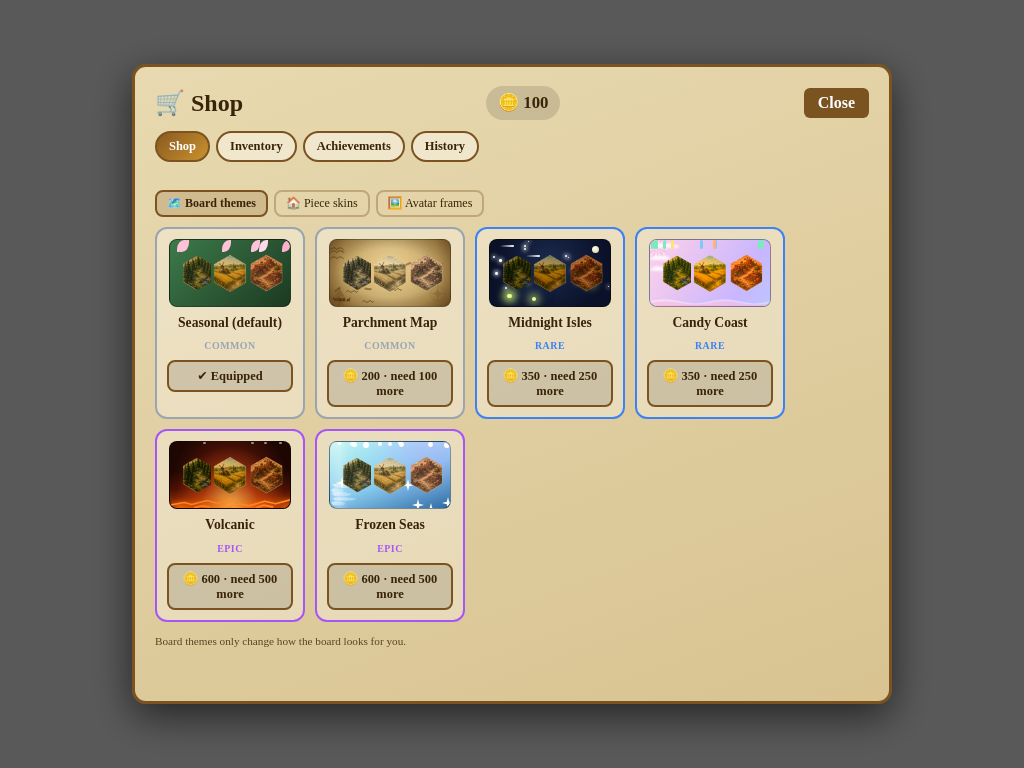
<Shop /> › lists achievements and the transaction history
This screenshot has width=1024, height=768.
Click the button "Achievements" at (354, 146), box [303,131,405,162]
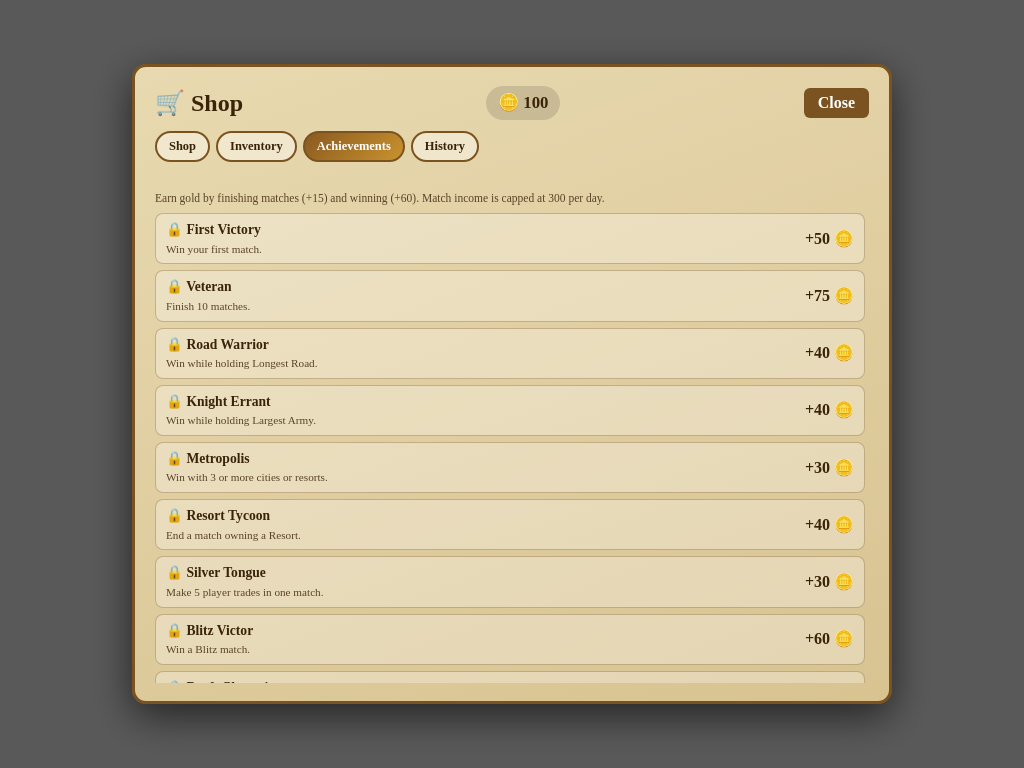
Expected: the element with test id "ach-first_win" is shown, [155,213,865,264]
Click the button "History" at (445, 146), box [411,131,479,162]
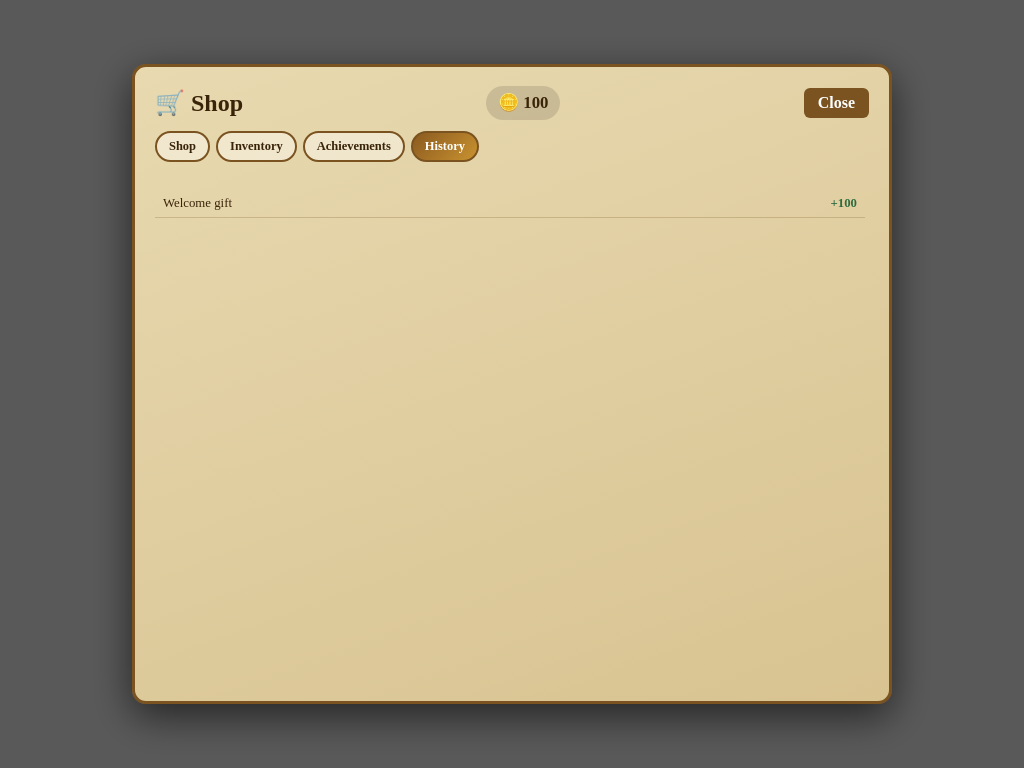
Expected: the text "Welcome gift" is shown, [163,194,232,213]
